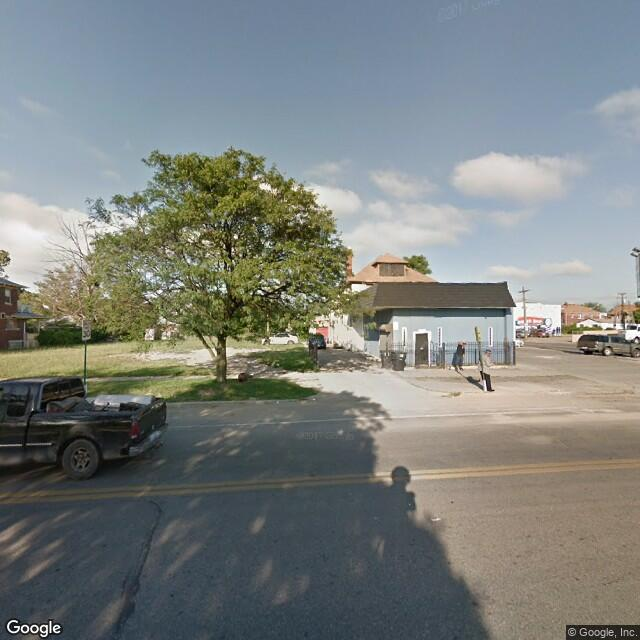litter: (431, 512, 443, 524), (311, 396, 318, 400), (275, 399, 278, 401)
